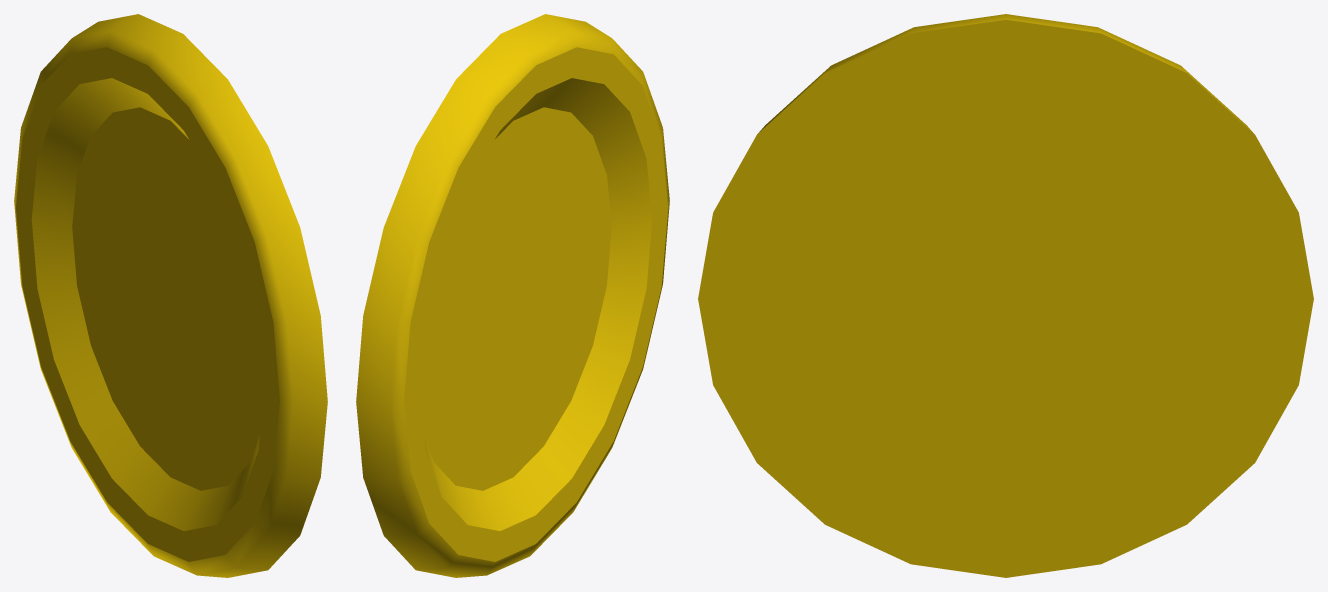
Rendered from Code_Machine_05_Button.fbx.
3 renders of one model, left to right at view 1: azimuth 30°, elevation 25°; view 2: azimuth 150°, elevation 25°; view 3: azimuth 270°, elevation 25°, orthographic. The views are drawn at different scales.
Visible parts, largest first — view 1: Code_Machine_05_Button; view 2: Code_Machine_05_Button; view 3: Code_Machine_05_Button.
Part boxes in pixels (<box>): Code_Machine_05_Button: <box>14,14,327,577</box>; Code_Machine_05_Button: <box>356,14,669,577</box>; Code_Machine_05_Button: <box>698,14,1313,577</box>.
Bounding box in the file's own units: 0.248 × 3.52 × 3.52.
